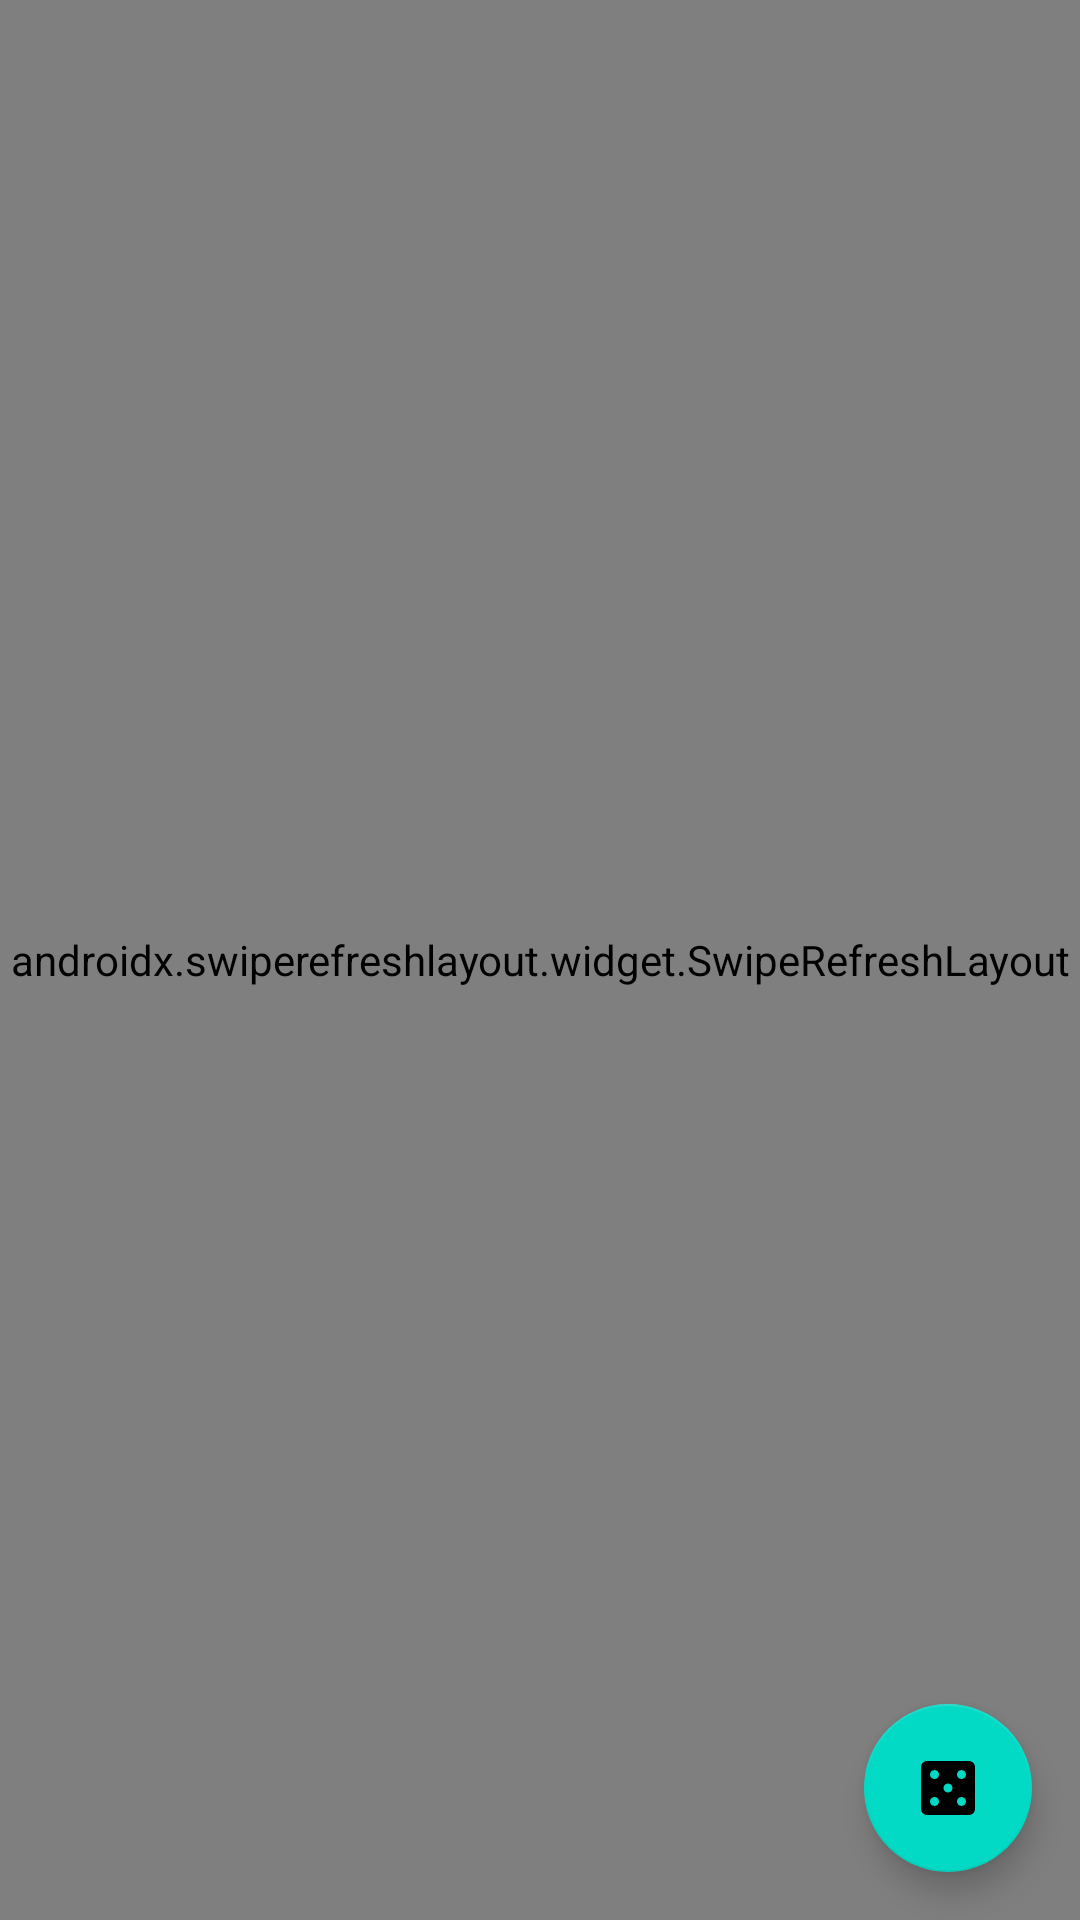

Where to tap for icons on this 1080px×1920px app screen, as (x,y):
simulate: (948,1788)
